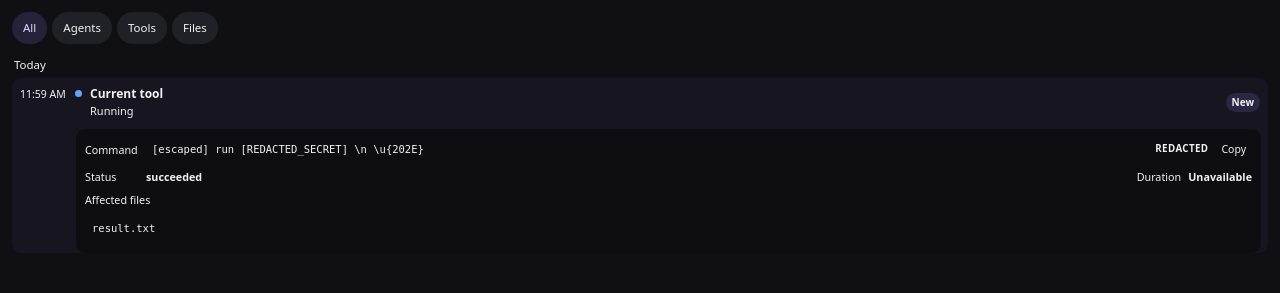
Test: ActivityFeed › uses one sanitized command for visible text, title, direction isolation, and copy outcome
This screenshot has width=1280, height=293.
Expected: the element titled "[escaped] run [REDACTED_SECRET] \\n \\u{202E}" reads "[escaped] run [REDACTED_SECRET] \\n \\u{202E}", x1=152 y1=143 x2=424 y2=155
Expected: the text "Redacted" is shown, x1=1155 y1=142 x2=1208 y2=157
What coordinates should you click on to do the following:
click the button with aria-label "Copy command"
I would click on:
 (1234, 150)
Its box is x1=1215 y1=138 x2=1252 y2=162.
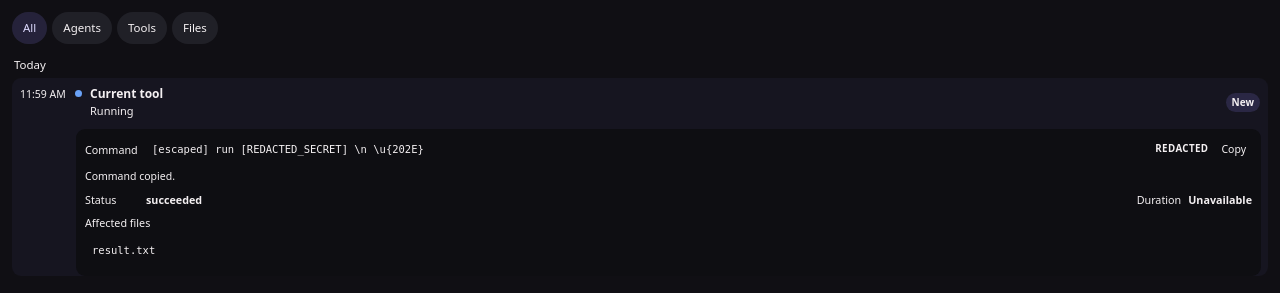
Now the message reads "Command copied.", box x1=85 y1=169 x2=175 y2=183
